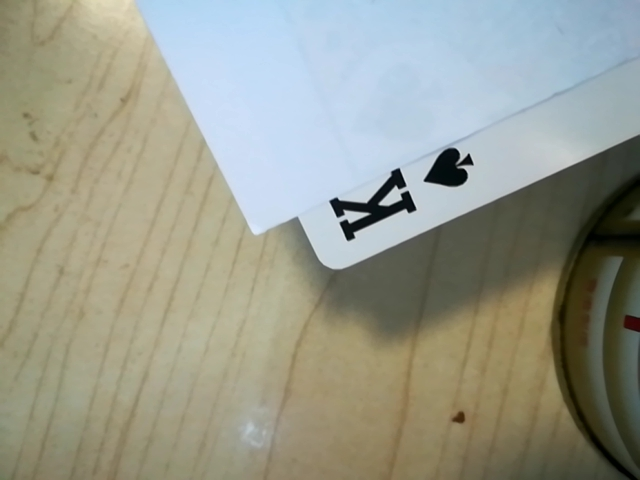ht k: (310, 134, 488, 257)
